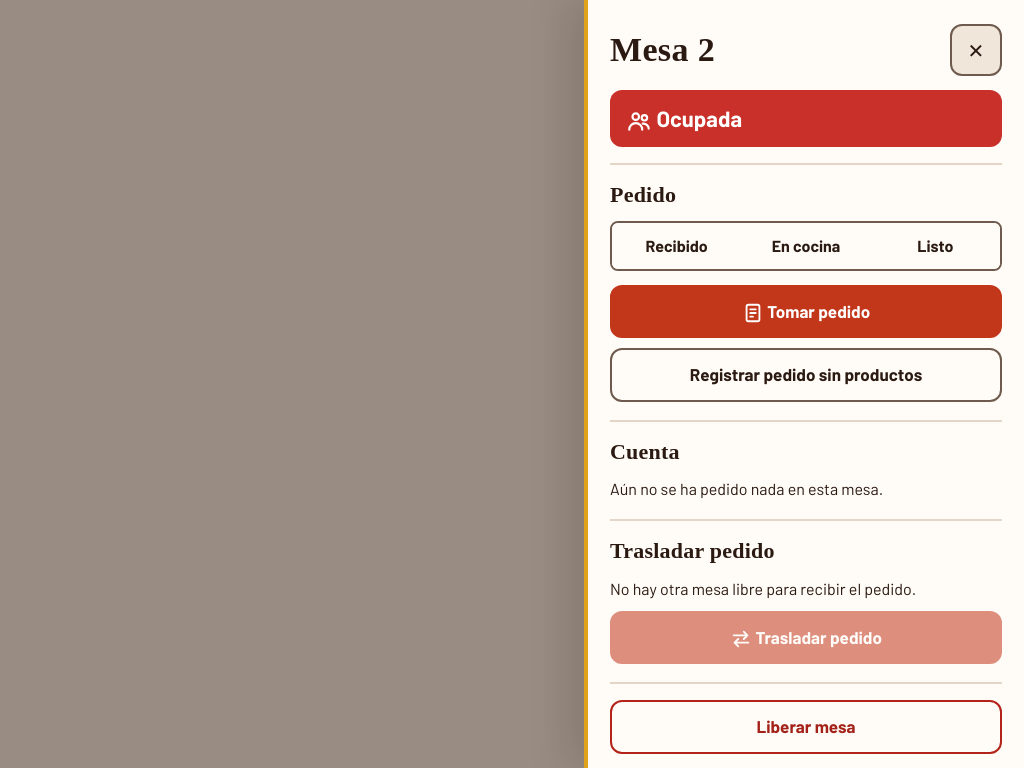
Test: DetalleMesa: liberar mesa (US-09 CA3 y CA4) › REGRESIÓN US-09 CA3: con pedido activo muestra PEDIDO_ACTIVO y el motivo
The image size is (1024, 768).
Click the button "Liberar mesa" at {"x": 806, "y": 727}, box [610,700,1002,754]
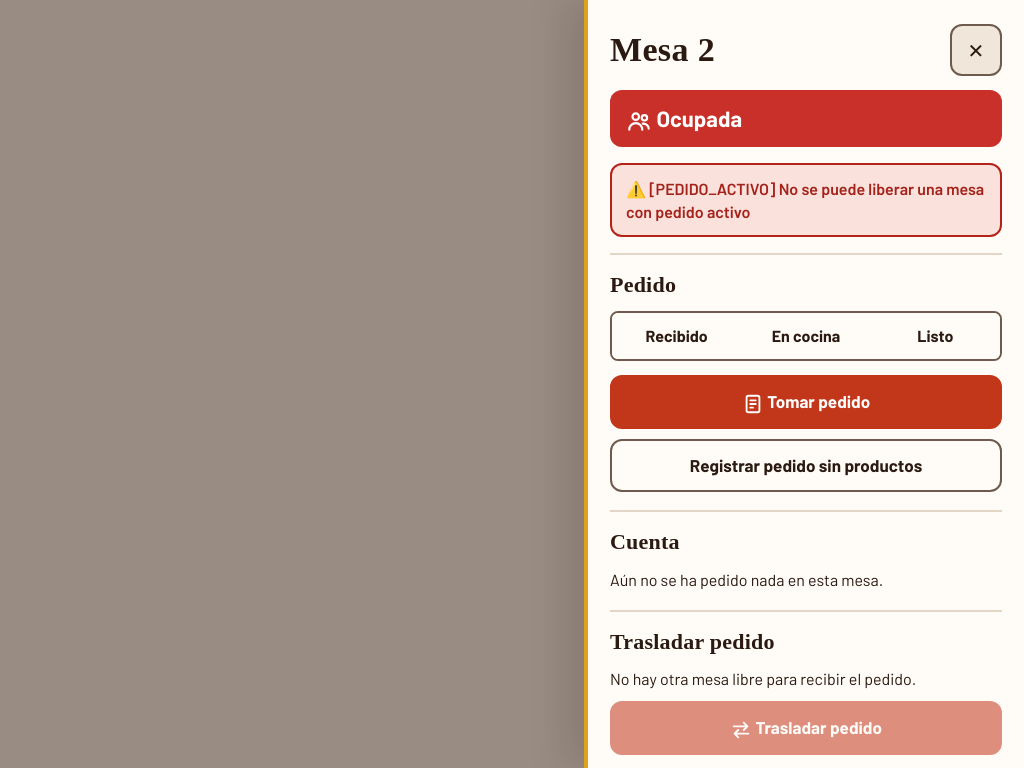
Expected: the text "⚠️ [PEDIDO_ACTIVO] No se puede liberar una mesa con pedido activo" is shown, [610,163,1002,237]
